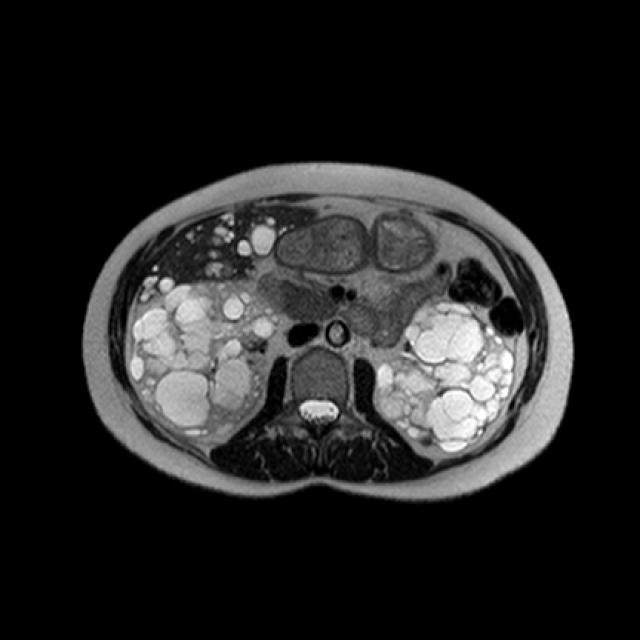sag: (130, 281, 277, 435)
sol: (379, 303, 513, 450)
